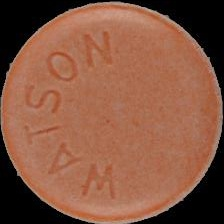52544-967: (0, 0, 224, 224)
